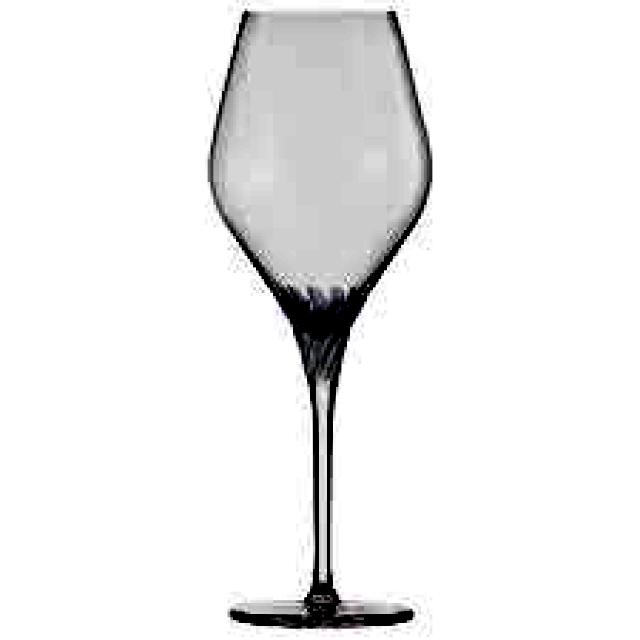Glass: (198, 0, 440, 637)
